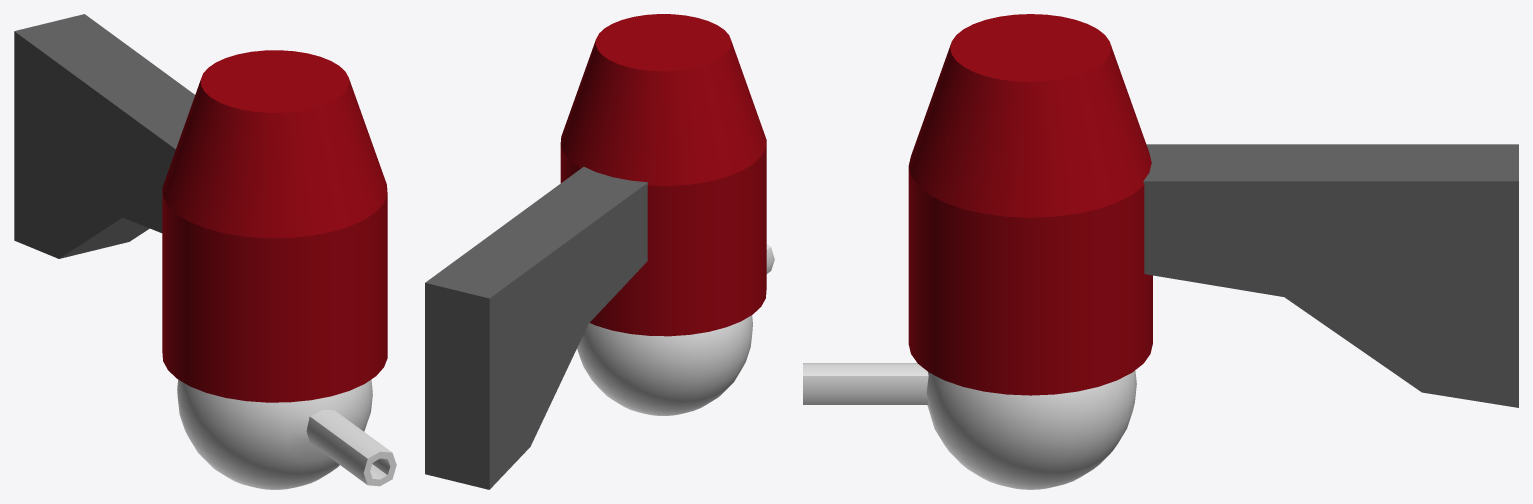
File: turret.fbx
The picture shows the model from 3 angles, left to right: view 1: azimuth 30°, elevation 25°; view 2: azimuth 150°, elevation 25°; view 3: azimuth 270°, elevation 25°; orthographic projection. The views are drawn at different scales.
Visible parts, largest first — view 1: Cylinder, Arm, Sphere; view 2: Cylinder, Arm, Sphere; view 3: Cylinder, Arm, Sphere.
Boxes of the visible parts, x1,y1,x2,y2 form: Cylinder: [162, 50, 387, 402]; Arm: [14, 14, 194, 258]; Sphere: [177, 379, 396, 489]; Cylinder: [560, 14, 766, 336]; Arm: [425, 167, 648, 489]; Sphere: [577, 244, 774, 415]; Cylinder: [908, 14, 1152, 395]; Arm: [1143, 144, 1518, 407]; Sphere: [803, 363, 1136, 489].
Bounding box in the file's own units: 200 × 390 × 586.
